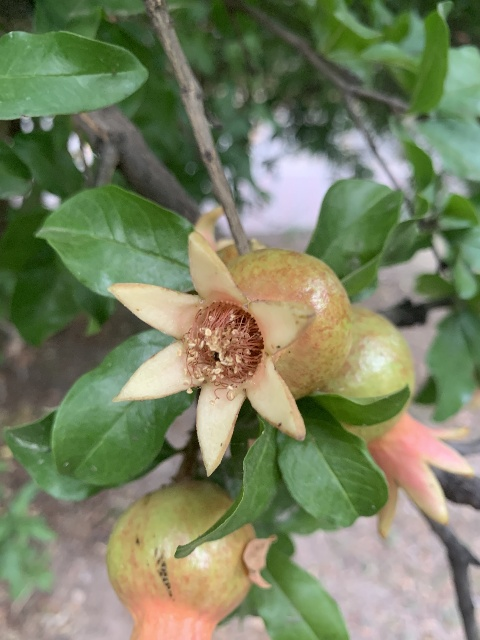early-fruit: (108, 234, 350, 477), (308, 307, 475, 537), (73, 480, 270, 640)
